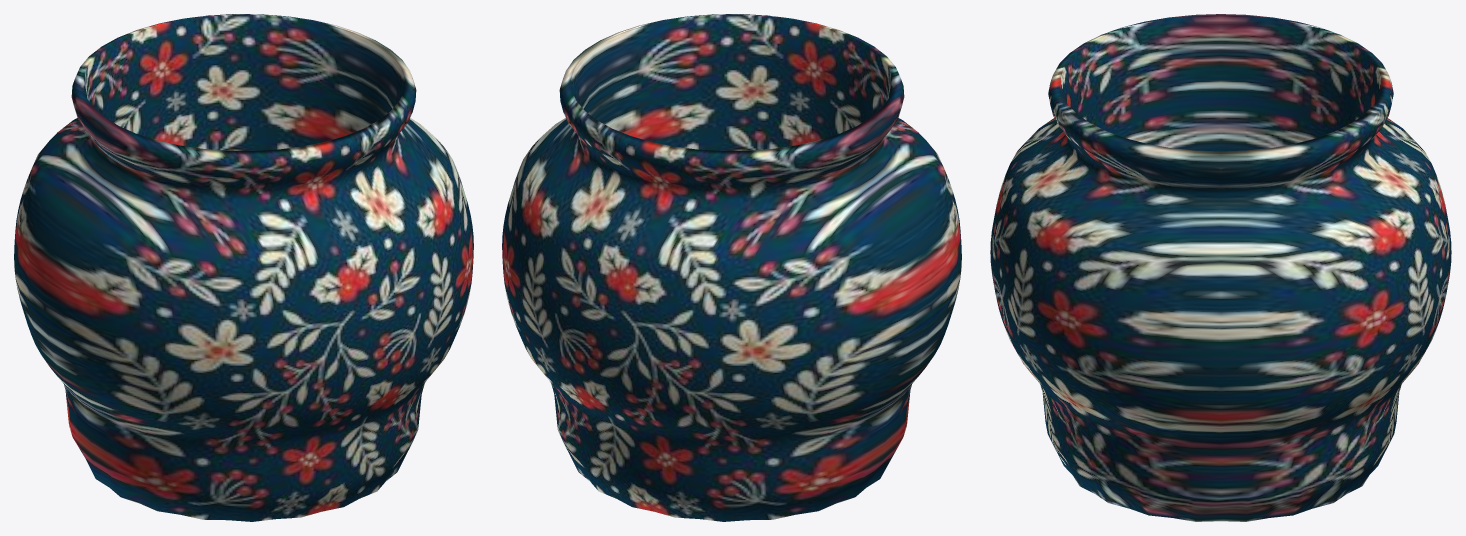
The model's file is Pot 1.fbx.
3 renders of one model, left to right at view 1: azimuth 30°, elevation 25°; view 2: azimuth 150°, elevation 25°; view 3: azimuth 270°, elevation 25°, orthographic.
Parts seen in each view (by area): view 1: pCylinder4; view 2: pCylinder4; view 3: pCylinder4.
Part boxes in pixels (x1=…): pCylinder4: x1=14, y1=14, x2=473, y2=521; pCylinder4: x1=502, y1=14, x2=961, y2=521; pCylinder4: x1=990, y1=14, x2=1451, y2=521.
Size of the model in its own units: 6.09 by 5.59 by 6.09.
